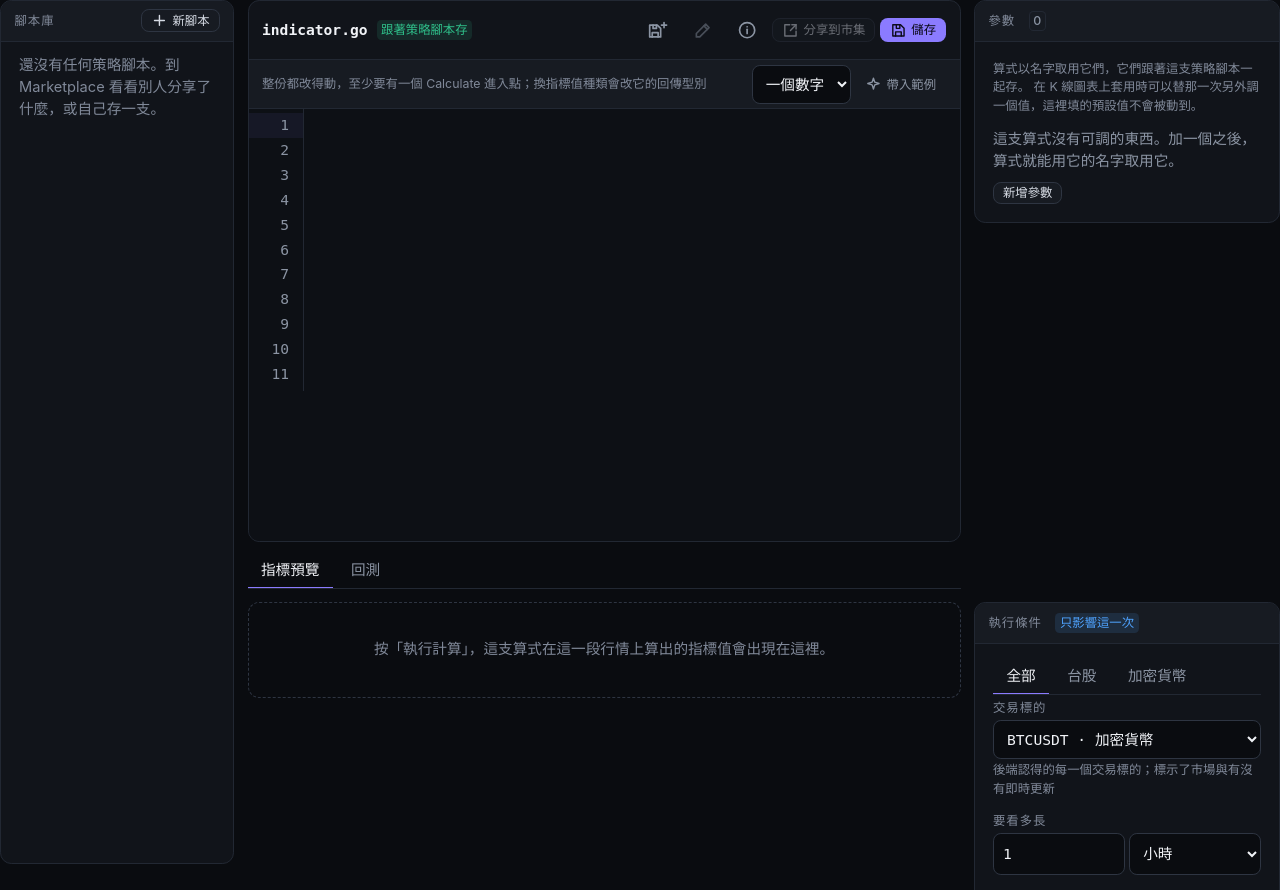
策略腳本畫面上的策略腳本：存回去 › 編輯區清成空白時存不出去，而且那句話看得見
Clear the field with class "cm-content": (632, 250) 304,109 -> 960,391
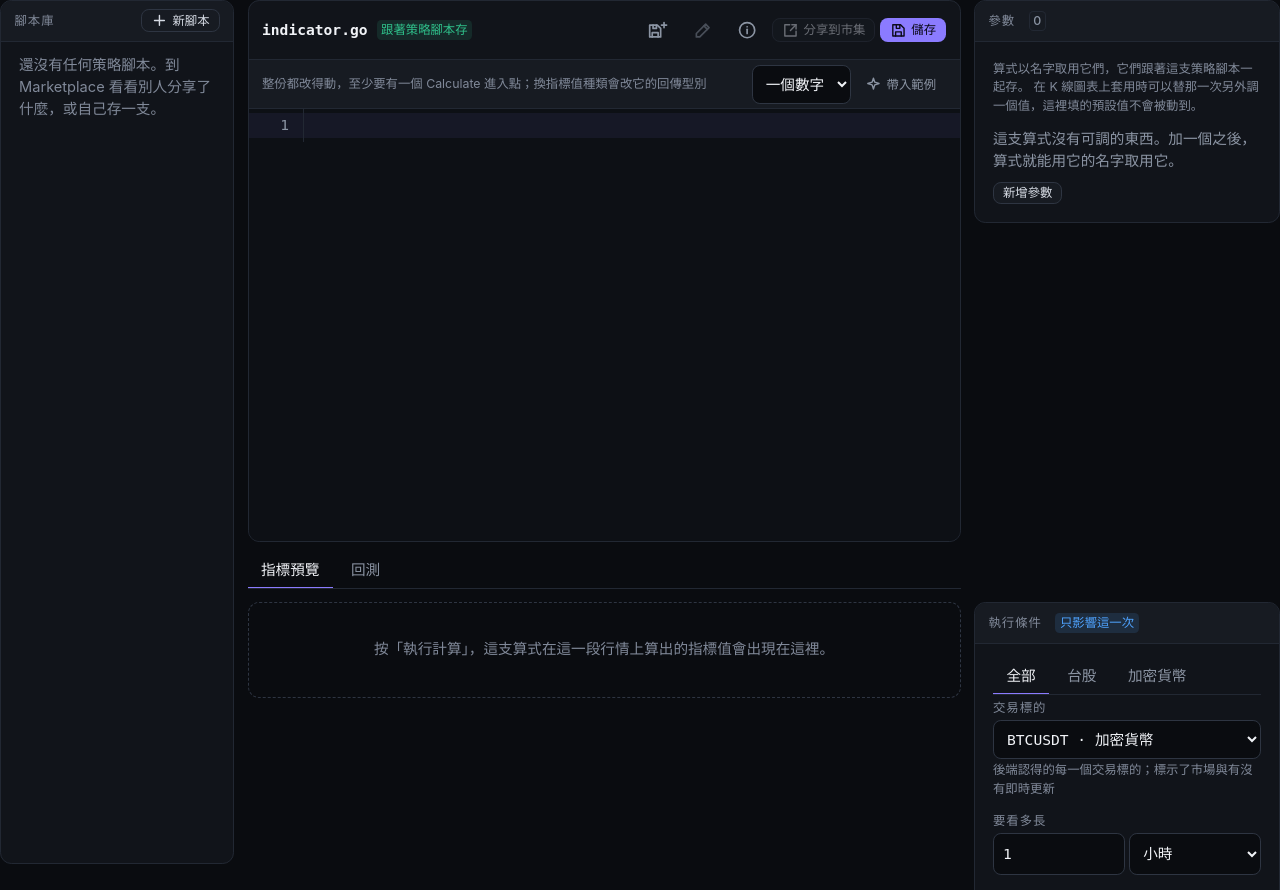
Click the button with test id "save-as-strategy-script-button": (658, 30) 638,10 -> 678,50
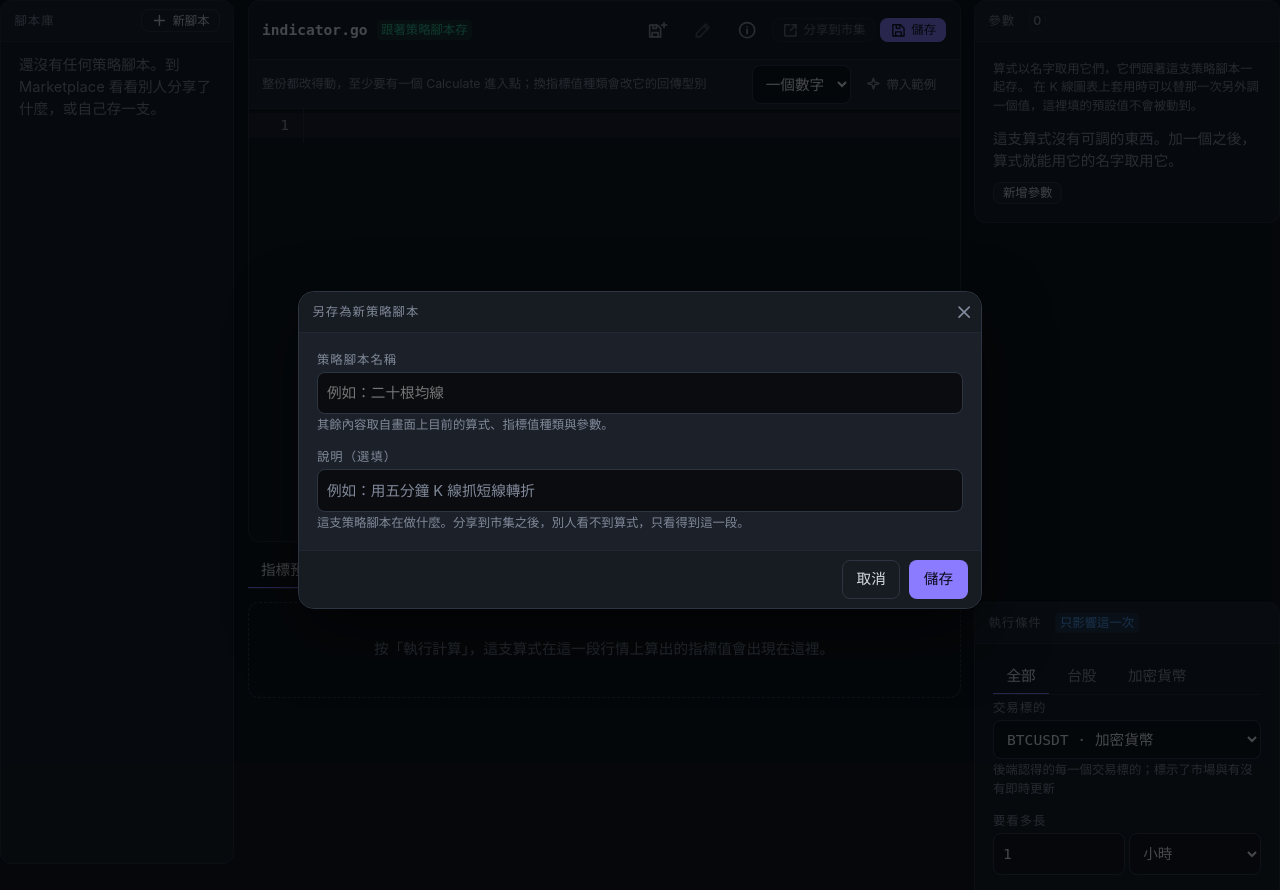
In the field with test id "strategy-script-name-input": (640, 393) 317,372 -> 963,414, type "空的"
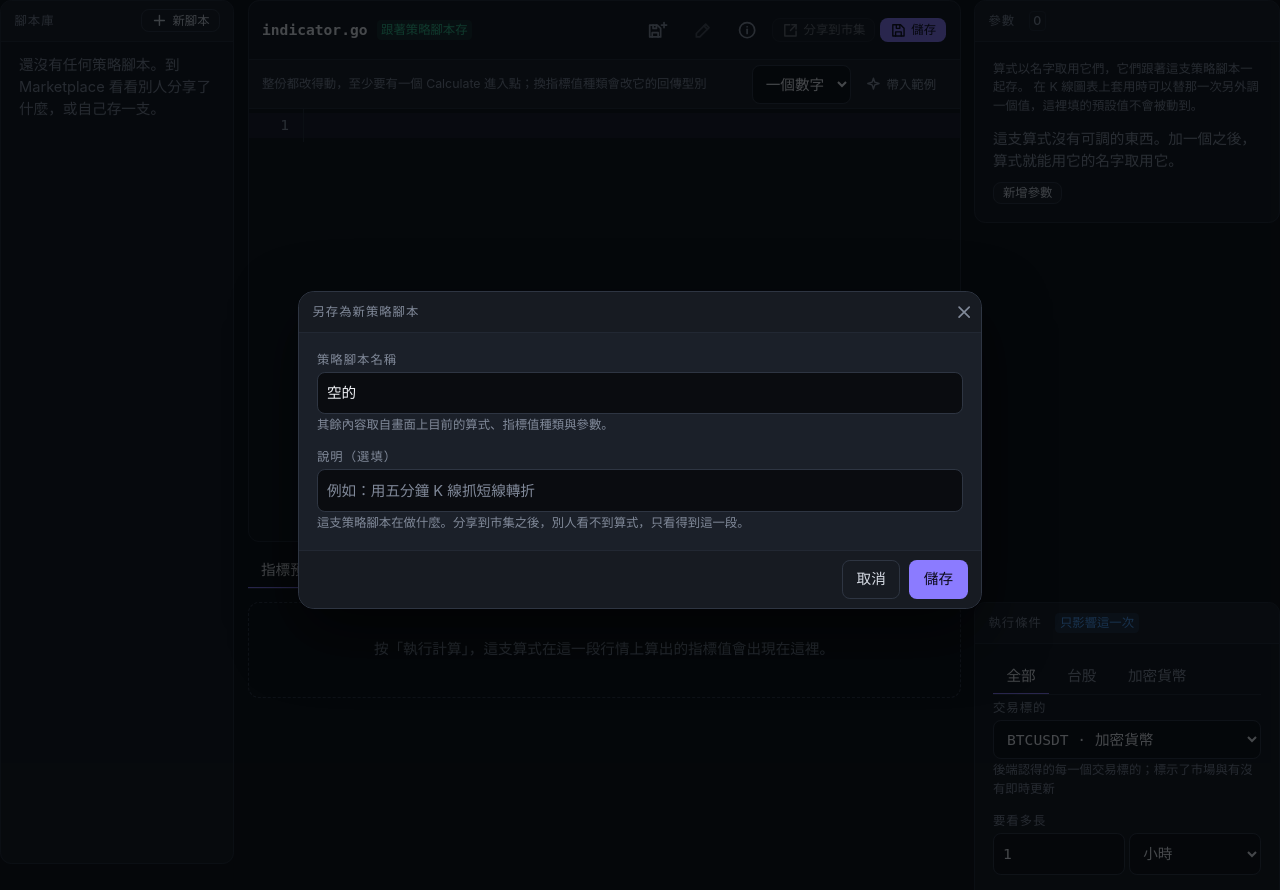
Click the button with test id "strategy-script-name-submit": (938, 580) 909,560 -> 968,599
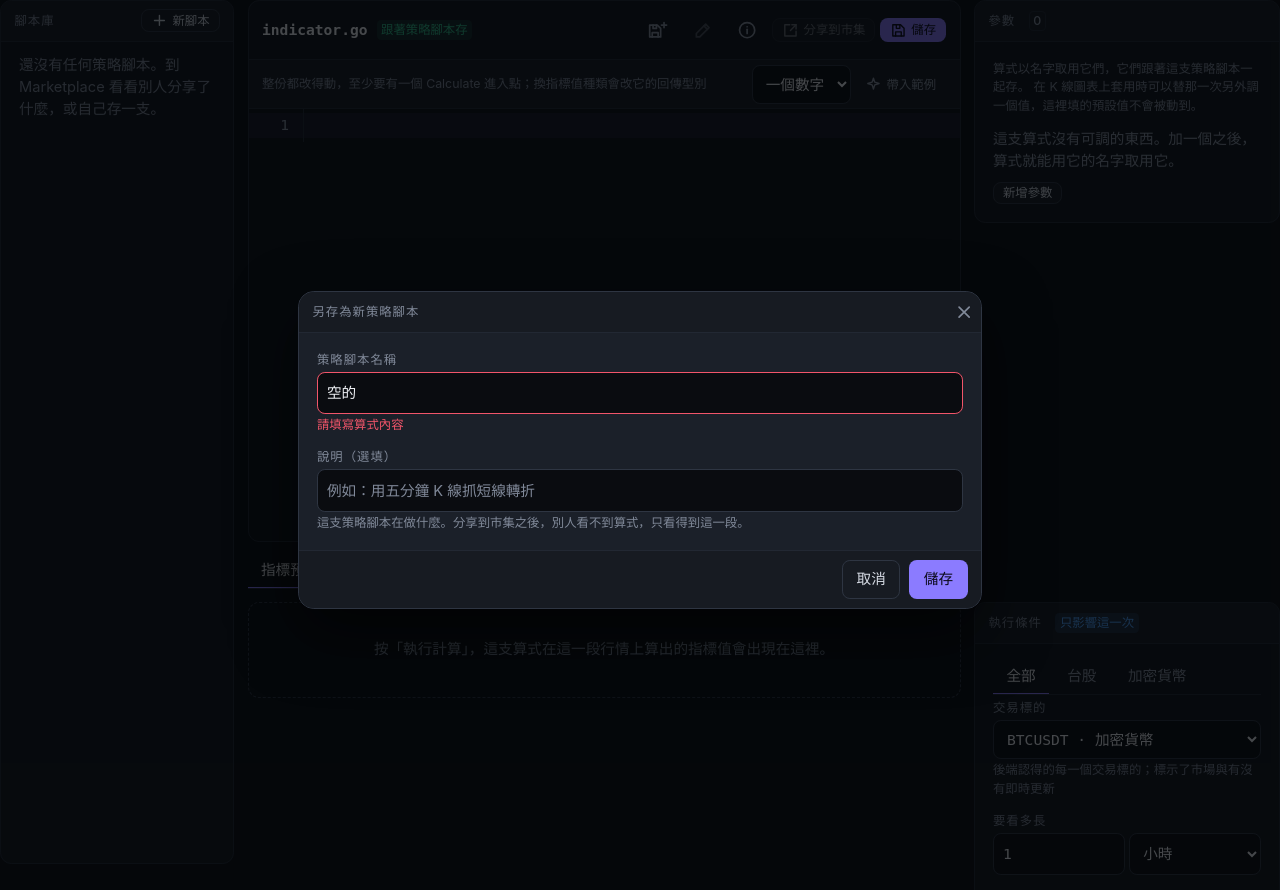
Now the text with test id "field-error" reads "請填寫算式內容", box 317,417 -> 404,432
